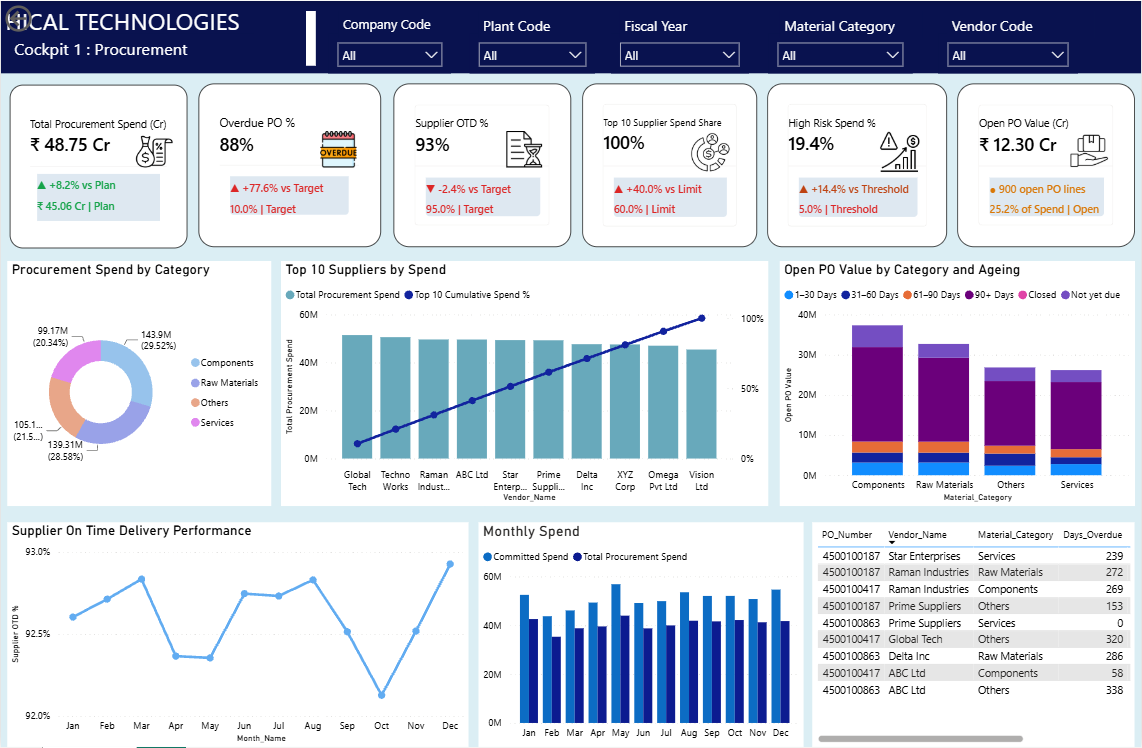

This screenshot's page, from the dashboard's own definition file:
{"tool":"powerbi","page":{"name":"Page 1","canvas":[1300,850],"ordinal":0},"visuals":[{"type":"textbox","box":[0,0,1300.4,82.6],"z":0},{"type":"cardVisual","fields":{"Data":["PO_Line_Data.Total Procurement Spend (Cr)"]},"box":[10,95.4,202.2,186.6],"z":1000},{"type":"image","box":[149.5,148.1,49.8,47],"z":2000},{"type":"cardVisual","fields":{"Data":["PO_Line_Data.Overdue PO %"]},"box":[225,94,207.9,186.6],"z":3000},{"type":"cardVisual","fields":{"Data":["PO_Line_Data.Supplier OTD %"]},"box":[447.2,94,202.2,186.6],"z":4000},{"type":"cardVisual","fields":{"Data":["PO_Line_Data.Top 10 Supplier Spend Share"]},"box":[662.3,94,199.4,186.6],"z":5000},{"type":"cardVisual","fields":{"Data":["PO_Line_Data.High Risk Spend %"]},"box":[873.1,94,205.1,186.6],"z":6000},{"type":"image","box":[358.9,148.1,51.3,41.3],"z":7000},{"type":"image","box":[572.6,148.1,47,41.3],"z":8000},{"type":"image","box":[779.1,149.5,58.4,45.6],"z":9000},{"type":"image","box":[998.4,148.1,51.3,47],"z":10000},{"type":"textbox","box":[9.7,37.4,278.7,36.2],"z":11000},{"type":"textbox","box":[347.5,11.4,11.4,62.7],"z":12000},{"type":"slicer","fields":{"Values":["PO_Line_Data.Company_Code"]},"box":[373.2,37,139.6,45.6],"z":13000},{"type":"textbox","box":[384.6,11.4,128.2,31.3],"z":14000},{"type":"slicer","fields":{"Values":["PO_Line_Data.Plant_Code"]},"box":[534.1,37,142.4,45.6],"z":15000},{"type":"textbox","box":[544.1,11.4,151,31.3],"z":16000},{"type":"slicer","fields":{"Values":["PO_Line_Data.Fiscal_Year"]},"box":[695,37,156.7,45.6],"z":17000},{"type":"textbox","box":[705,11.4,146.7,31.3],"z":18000},{"type":"slicer","fields":{"Values":["PO_Line_Data.Material_Category"]},"box":[874.5,37,163.8,45.6],"z":19000},{"type":"textbox","box":[887.3,11.4,162.4,31.3],"z":20000},{"type":"slicer","fields":{"Values":["PO_Line_Data.Vendor_Code"]},"box":[1068.2,37,158.1,45.6],"z":21000},{"type":"textbox","box":[1078.2,11.4,168.1,31.3],"z":22000},{"type":"cardVisual","fields":{"Data":["PO_Line_Data.Open PO Value (Cr)"]},"box":[1089.6,94,202.2,186.6],"z":23000},{"type":"image","box":[1213.5,149.5,52.7,42.7],"z":24000},{"type":"lineClusteredColumnComboChart","title":"Top 10 Suppliers by Spend","fields":{"Category":["PO_Line_Data.Vendor_Name"],"Y":["PO_Line_Data.Total Procurement Spend"],"Y2":["PO_Line_Data.Top 10 Cumulative Spend %"]},"box":[319,296.2,555.5,279.2],"z":25000},{"type":"donutChart","title":"Procurement Spend by Category","fields":{"Category":["PO_Line_Data.Material_Category"],"Y":["PO_Line_Data.Total Procurement Spend"]},"box":[7.1,296.2,300.5,279.2],"z":26000},{"type":"clusteredColumnChart","title":"Monthly Spend","fields":{"Category":["PO_Line_Data.Month_Name"],"Y":["PO_Line_Data.Committed Spend","PO_Line_Data.Total Procurement Spend"]},"box":[544.1,593.9,370.3,256.4],"z":27000},{"type":"lineChart","title":"Supplier On Time Delivery Performance","fields":{"Category":["PO_Line_Data.Month_Name"],"Y":["PO_Line_Data.Supplier OTD %"]},"box":[7.1,593.9,525.6,256.4],"z":28000},{"type":"columnChart","title":"Open PO Value by Category and Ageing","fields":{"Series":["PO_Line_Data.Ageing_Bucket"],"Y":["PO_Line_Data.Open PO Value"],"Category":["PO_Line_Data.Material_Category"]},"box":[887.3,296.2,404.5,279.2],"z":29000},{"type":"tableEx","fields":{"Values":["PO_Line_Data.PO_Number","PO_Line_Data.Vendor_Name","PO_Line_Data.Material_Category","PO_Line_Data.Days_Overdue","PO_Line_Data.Open PO Value (Cr)","PO_Line_Data.Status Indicator"]},"box":[924.4,593.9,367.5,256.4],"z":30000},{"type":"actionButton","box":[0,0,100,40],"z":31000}]}

Visuals, with their boxes in screenshot pixels (x1, y1, x2, y2), scaled from the page's 1300x850 canvas onto the 1142x748 screenshot:
textbox: rect(0, 0, 1141, 73)
cardVisual - PO_Line_Data.Total Procurement Spend (Cr): rect(9, 84, 186, 248)
image: rect(131, 130, 175, 172)
cardVisual - PO_Line_Data.Overdue PO %: rect(198, 83, 380, 247)
cardVisual - PO_Line_Data.Supplier OTD %: rect(393, 83, 570, 247)
cardVisual - PO_Line_Data.Top 10 Supplier Spend Share: rect(582, 83, 757, 247)
cardVisual - PO_Line_Data.High Risk Spend %: rect(767, 83, 947, 247)
image: rect(315, 130, 360, 167)
image: rect(503, 130, 544, 167)
image: rect(684, 132, 736, 172)
image: rect(877, 130, 922, 172)
textbox: rect(9, 33, 253, 65)
textbox: rect(305, 10, 315, 65)
slicer - PO_Line_Data.Company_Code: rect(328, 33, 450, 73)
textbox: rect(338, 10, 450, 38)
slicer - PO_Line_Data.Plant_Code: rect(469, 33, 594, 73)
textbox: rect(478, 10, 611, 38)
slicer - PO_Line_Data.Fiscal_Year: rect(611, 33, 748, 73)
textbox: rect(619, 10, 748, 38)
slicer - PO_Line_Data.Material_Category: rect(768, 33, 912, 73)
textbox: rect(779, 10, 922, 38)
slicer - PO_Line_Data.Vendor_Code: rect(938, 33, 1077, 73)
textbox: rect(947, 10, 1095, 38)
cardVisual - PO_Line_Data.Open PO Value (Cr): rect(957, 83, 1135, 247)
image: rect(1066, 132, 1112, 169)
"Top 10 Suppliers by Spend" lineClusteredColumnComboChart: rect(280, 261, 768, 506)
"Procurement Spend by Category" donutChart: rect(6, 261, 270, 506)
"Monthly Spend" clusteredColumnChart: rect(478, 523, 803, 747)
"Supplier On Time Delivery Performance" lineChart: rect(6, 523, 468, 747)
"Open PO Value by Category and Ageing" columnChart: rect(779, 261, 1135, 506)
tableEx - PO_Line_Data.PO_Number x PO_Line_Data.Vendor_Name: rect(812, 523, 1135, 747)
actionButton: rect(0, 0, 88, 35)
